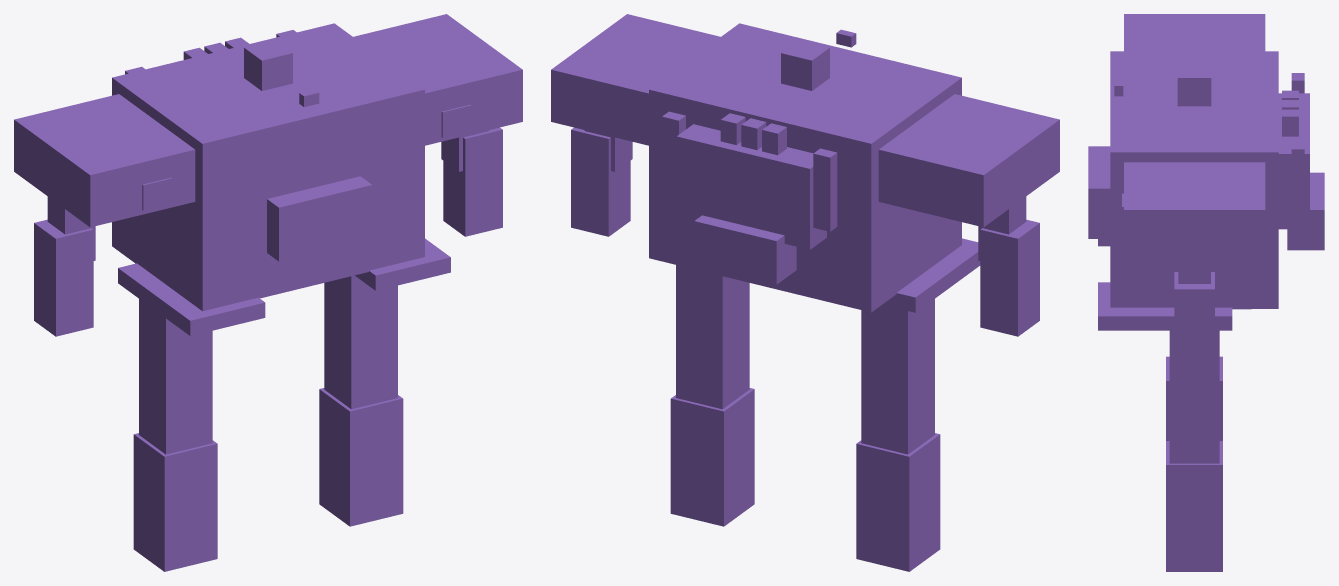
Rendered from mechfall_tzendolg.obj.
3 renders of one model, left to right at view 1: azimuth 30°, elevation 25°; view 2: azimuth 150°, elevation 25°; view 3: azimuth 270°, elevation 25°, orthographic. The views are drawn at different scales.
Visible parts, largest first — view 1: mechfall_tzendolg; view 2: mechfall_tzendolg; view 3: mechfall_tzendolg.
Part boxes in pixels (x1,y1,x2,y2): mechfall_tzendolg: [14, 14, 522, 571]; mechfall_tzendolg: [551, 14, 1059, 571]; mechfall_tzendolg: [1088, 14, 1324, 571].
Bounding box in the file's own units: 7.35 × 7.56 × 3.63.
